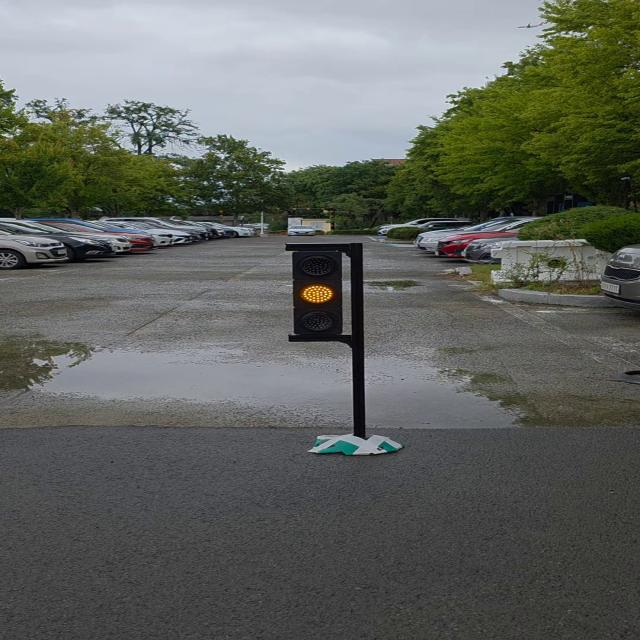yellow: (289, 248, 351, 338)
